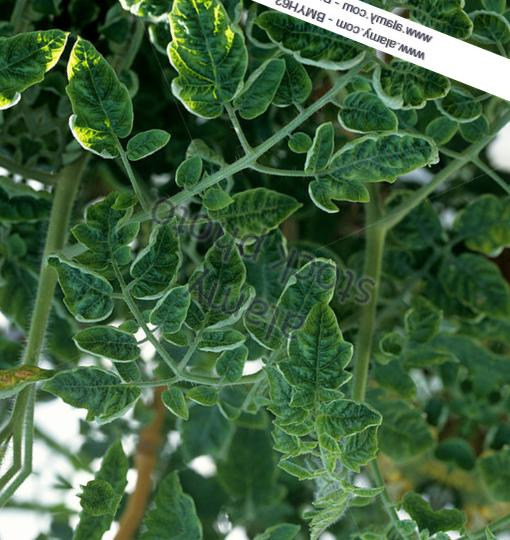Tomato leaf yellow virus: (276, 86, 446, 243), (106, 0, 278, 132), (29, 18, 166, 181), (251, 278, 377, 437), (345, 33, 501, 144), (168, 212, 280, 353), (258, 233, 351, 354), (11, 240, 130, 332), (113, 198, 205, 312), (204, 171, 307, 264), (213, 37, 305, 134), (304, 377, 388, 454), (128, 269, 204, 346), (57, 309, 140, 373)
